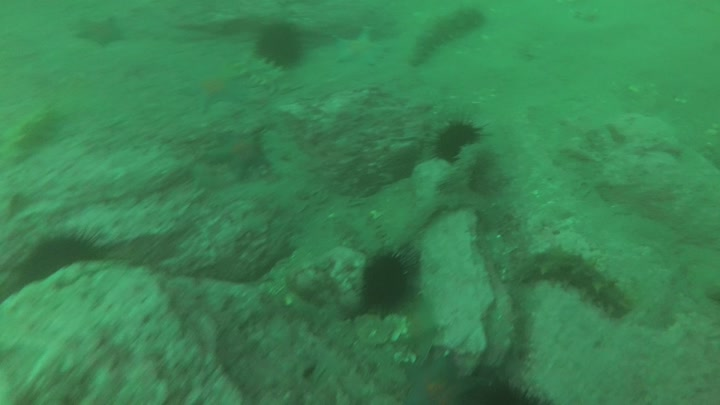echinus: (11, 229, 115, 283), (357, 243, 426, 321), (428, 117, 493, 164), (459, 373, 551, 405), (254, 20, 305, 71)
holothurian: (519, 242, 630, 317), (407, 6, 488, 71), (1, 106, 56, 166), (238, 53, 292, 95)
starfish: (177, 67, 246, 114), (402, 355, 466, 405), (209, 130, 274, 177), (332, 23, 392, 67), (75, 15, 127, 49)
